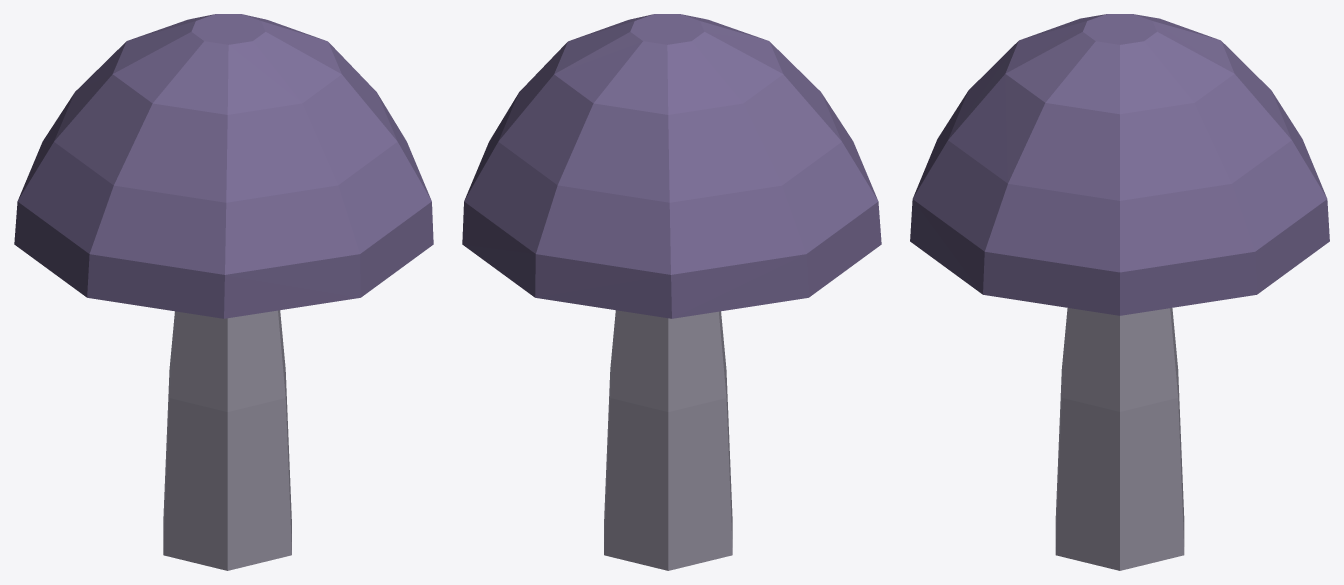
File: mushroom_purple.fbx
3 renders of one model, left to right at view 1: azimuth 30°, elevation 25°; view 2: azimuth 150°, elevation 25°; view 3: azimuth 270°, elevation 25°, orthographic.
Parts seen in each view (by area): view 1: prop_mushrooms_middle_geo_2; view 2: prop_mushrooms_middle_geo_2; view 3: prop_mushrooms_middle_geo_2.
Part boxes in pixels (x1,y1,x2,y2): prop_mushrooms_middle_geo_2: [14, 14, 433, 570]; prop_mushrooms_middle_geo_2: [462, 14, 881, 570]; prop_mushrooms_middle_geo_2: [910, 14, 1329, 570].
Bounding box in the file's own units: 7.22 × 9.84 × 7.33.
